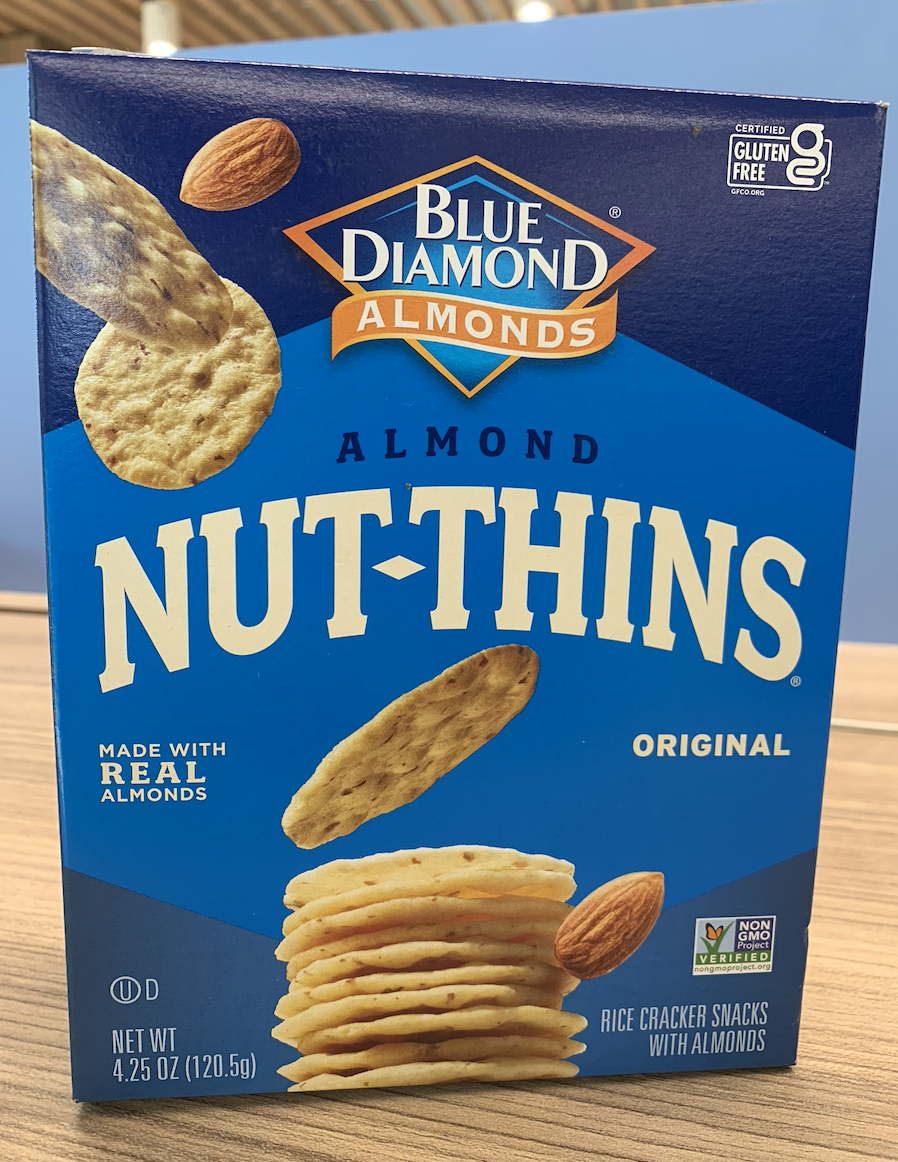crackers_150g: (88, 107, 800, 1082)
